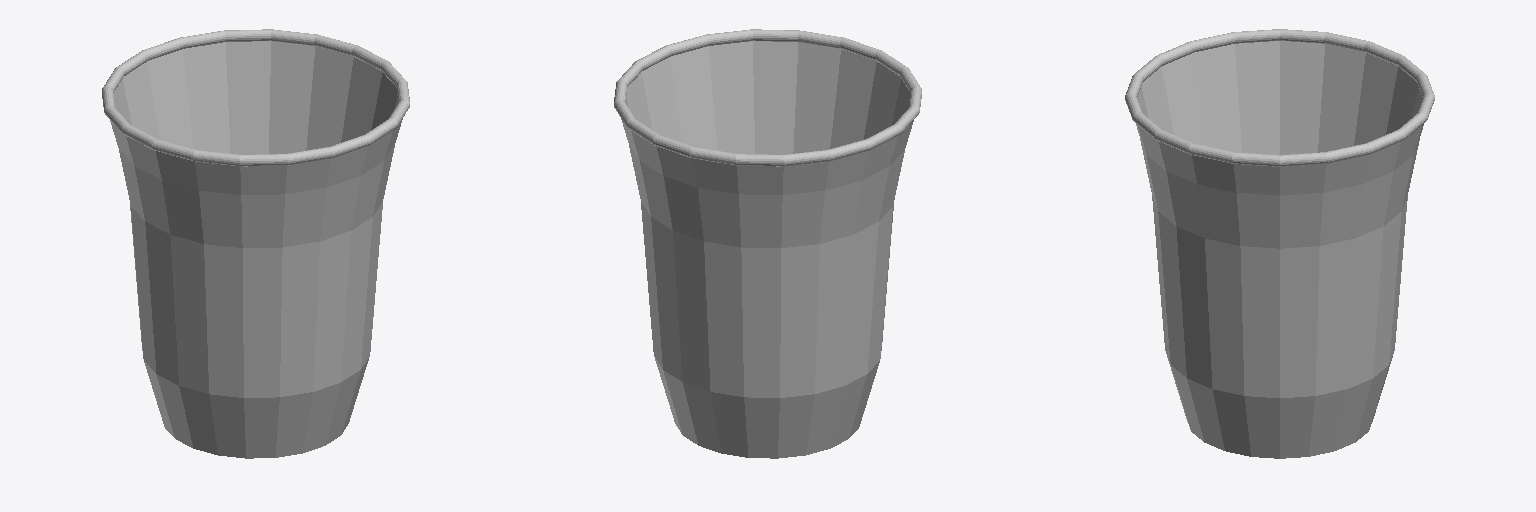
File: Cup.obj
3 renders of one model, left to right at view 1: azimuth 30°, elevation 25°; view 2: azimuth 150°, elevation 25°; view 3: azimuth 270°, elevation 25°, orthographic.
Parts seen in each view (by area): view 1: pasted__pCylinder1 group, pTorus1; view 2: pasted__pCylinder1 group, pTorus1; view 3: pasted__pCylinder1 group, pTorus1.
Part boxes in pixels (left/top/right/bottom): pasted__pCylinder1 group: left=110, top=41, right=402, bottom=458; pTorus1: left=102, top=29, right=409, bottom=166; pasted__pCylinder1 group: left=621, top=41, right=913, bottom=458; pTorus1: left=614, top=29, right=921, bottom=166; pasted__pCylinder1 group: left=1136, top=41, right=1423, bottom=458; pTorus1: left=1125, top=29, right=1434, bottom=166.
Size of the model in its own units: 10.17 by 11.81 by 10.17.